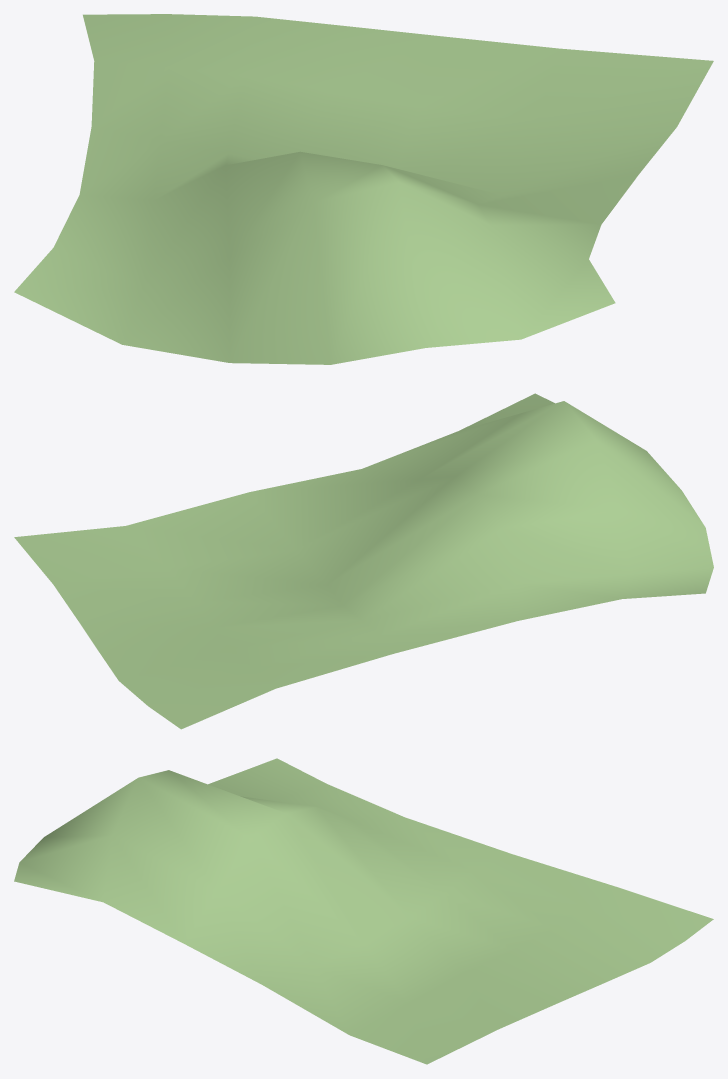
Rendered from level_83.fbx.
The picture shows the model from 3 angles, top to bottom: view 1: azimuth 30°, elevation 25°; view 2: azimuth 150°, elevation 25°; view 3: azimuth 270°, elevation 25°; orthographic projection. The views are drawn at different scales.
Visible parts, largest first — view 1: loc_083; view 2: loc_083; view 3: loc_083.
Part boxes in pixels (<box>): loc_083: <box>14,14,713,364</box>; loc_083: <box>14,393,713,729</box>; loc_083: <box>14,758,713,1064</box>.
Bounding box in the file's own units: 46.34 × 8.91 × 49.76.
